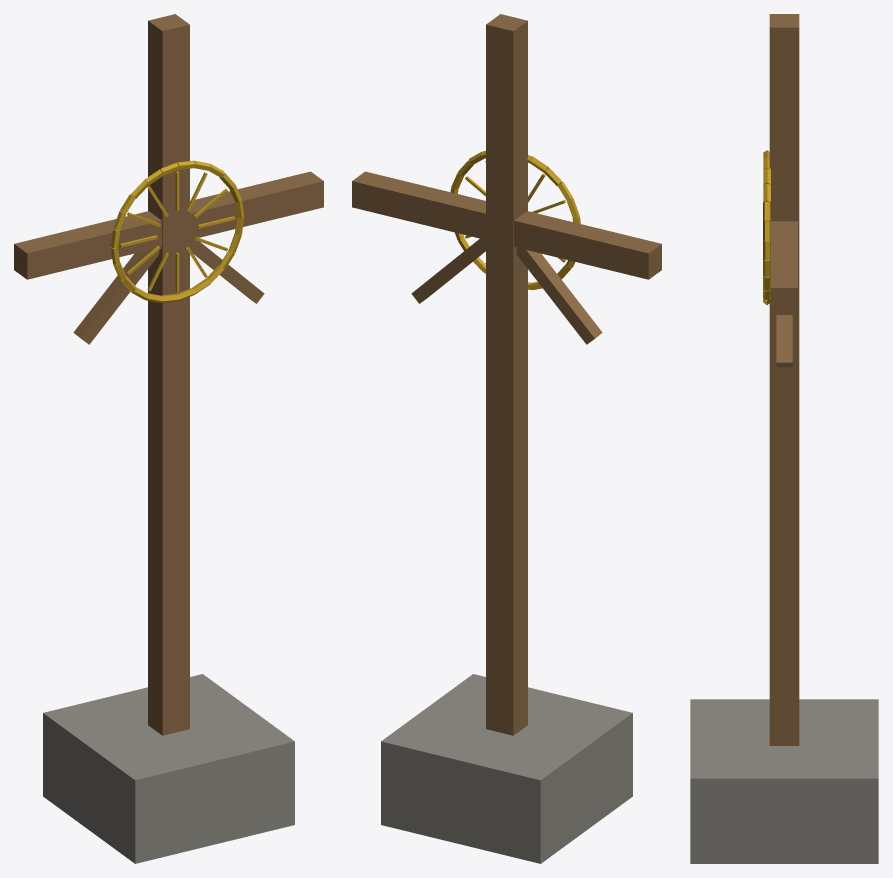
Rendered from prop-summit_cross.glb.
The picture shows the model from 3 angles, left to right: view 1: azimuth 30°, elevation 25°; view 2: azimuth 150°, elevation 25°; view 3: azimuth 270°, elevation 25°; orthographic projection.
Visible parts, largest first — view 1: summit_cross; view 2: summit_cross; view 3: summit_cross.
Part boxes in pixels (x1=…): summit_cross: x1=14, y1=14, x2=323, y2=863; summit_cross: x1=352, y1=14, x2=661, y2=863; summit_cross: x1=690, y1=14, x2=878, y2=863.
Bounding box in the file's own units: 2.6 × 6.6 × 1.4.
